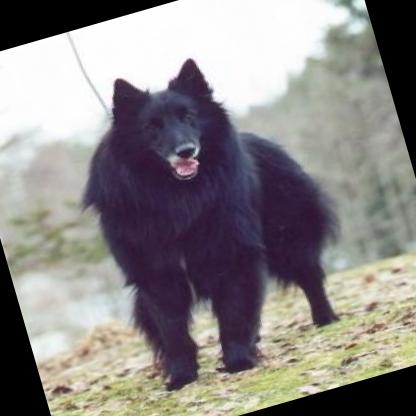groenendael: (44, 26, 376, 404)
